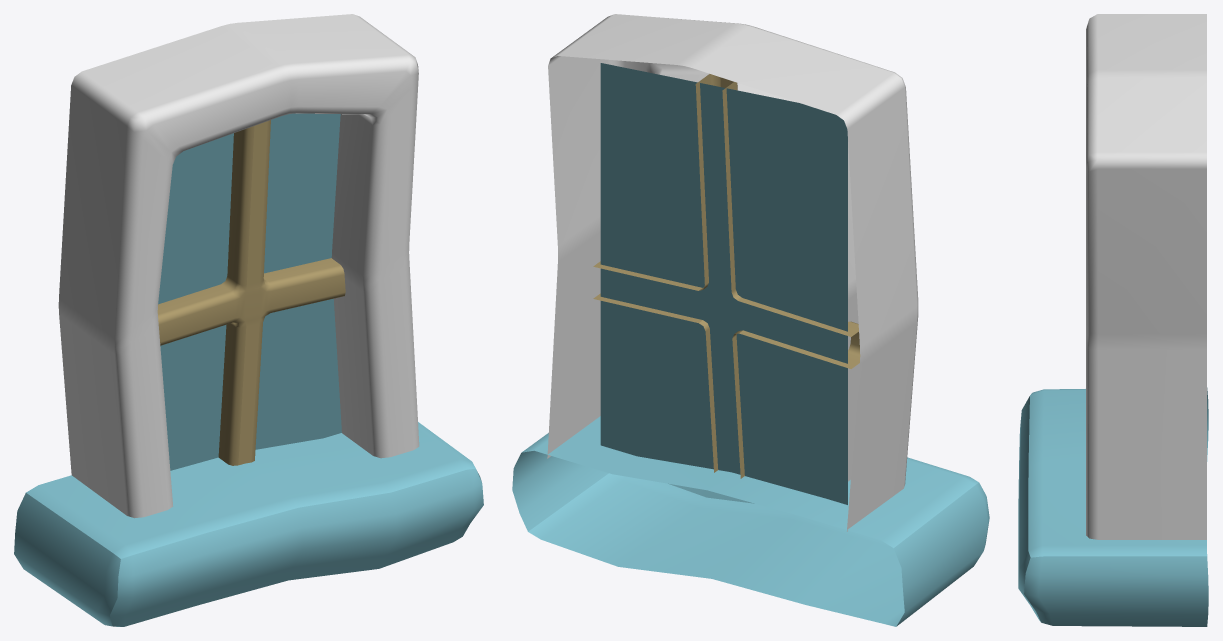
Rendered from fenetre_a.fbx.
3 views of the same model, side by side, from view 1: azimuth 30°, elevation 25°; view 2: azimuth 150°, elevation 25°; view 3: azimuth 270°, elevation 25° (orthographic). The views are drawn at different scales.
Visible parts, largest first — view 1: fenetre_01; view 2: fenetre_01; view 3: fenetre_01.
Part boxes in pixels (box(x1,y1,x2,y2)): fenetre_01: box(14, 14, 483, 626); fenetre_01: box(512, 14, 989, 626); fenetre_01: box(1018, 14, 1208, 626).
Bounding box in the file's own units: 2.24 × 2.82 × 0.9867.
